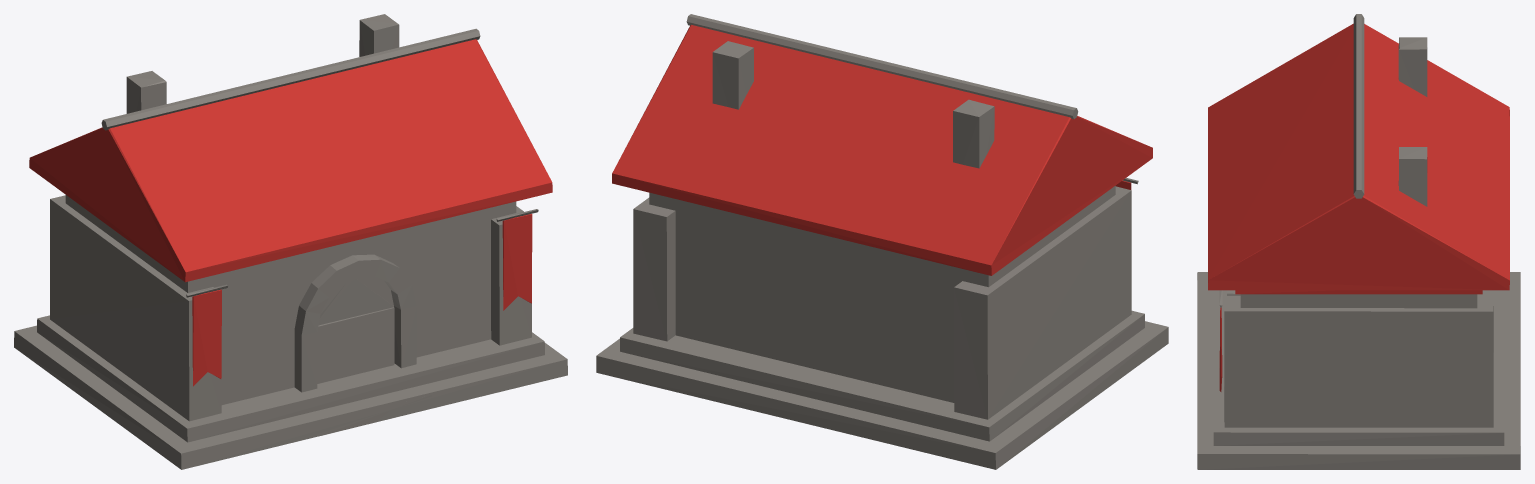
Rendered from barracks_crimson_lod1.obj.
3 views of the same model, side by side, from view 1: azimuth 30°, elevation 25°; view 2: azimuth 150°, elevation 25°; view 3: azimuth 270°, elevation 25° (orthographic). The views are drawn at different scales.
Visible parts, largest first — view 1: barracks_crimson_lod1; view 2: barracks_crimson_lod1; view 3: barracks_crimson_lod1.
Part boxes in pixels (left/top/right/bottom): barracks_crimson_lod1: left=14, top=14, right=567, bottom=469; barracks_crimson_lod1: left=596, top=14, right=1168, bottom=469; barracks_crimson_lod1: left=1197, top=14, right=1520, bottom=469.
Bounding box in the file's own units: 7.98 × 5.74 × 5.97.
